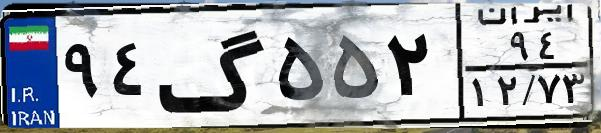1: (470, 70, 495, 125)
2: (385, 28, 445, 110), (495, 70, 520, 125)
3: (560, 70, 590, 125)
4: (110, 28, 156, 98), (537, 27, 568, 80)
5: (270, 28, 330, 110), (330, 28, 385, 110)
7: (535, 70, 560, 125)
9: (57, 26, 110, 100), (508, 27, 537, 80)
گ: (156, 12, 270, 120)
